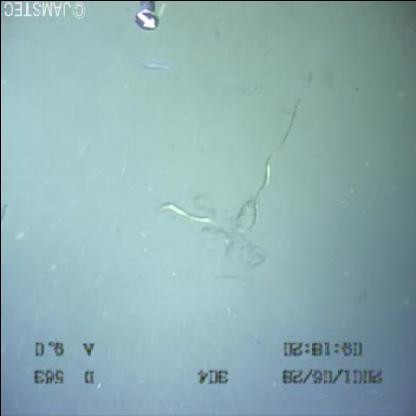Rov: (134, 1, 160, 46)
Rác: (145, 72, 334, 308)
